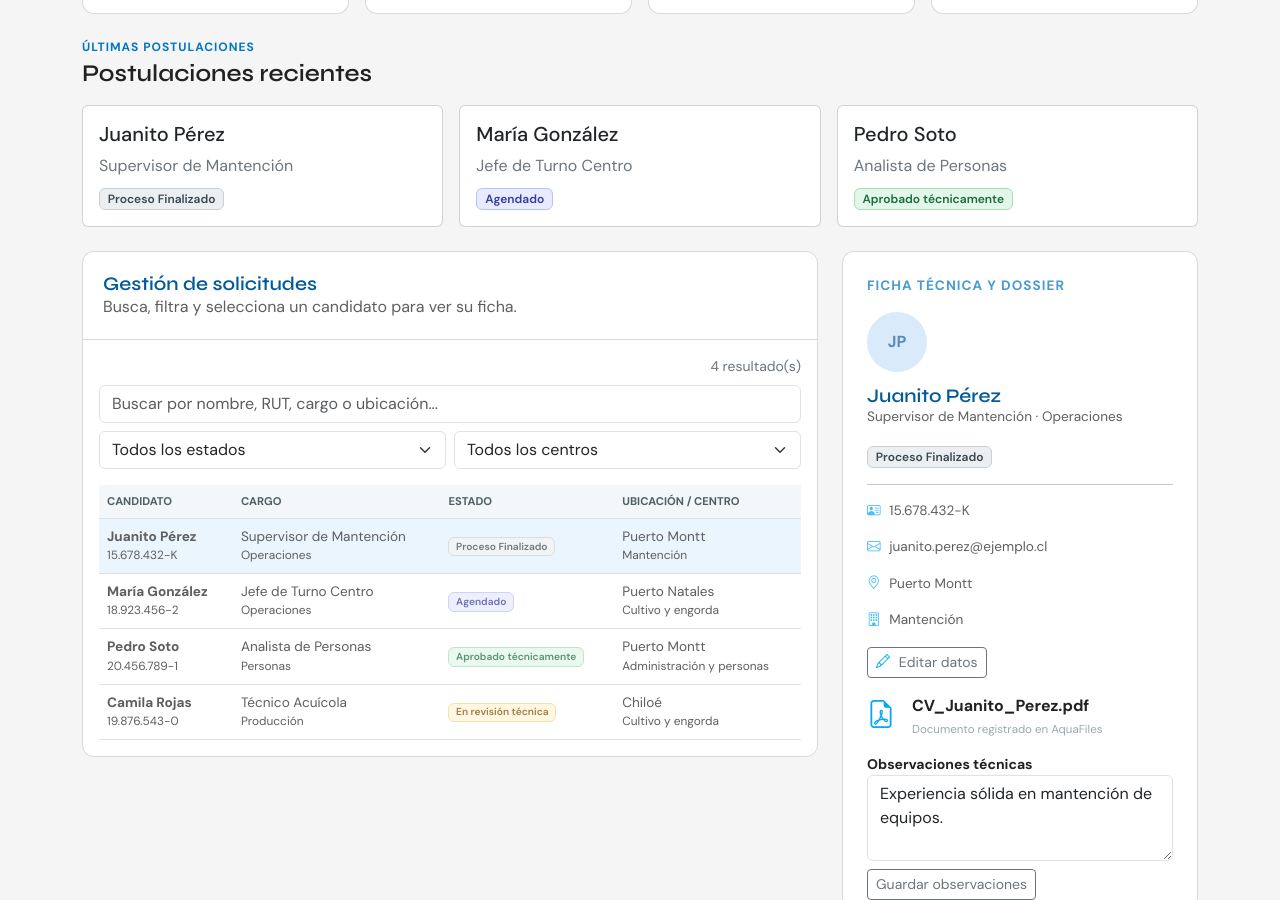
Scenario: Flujo del proceso › el supervisor filtra por centro de costos
The image size is (1280, 900).
(page scrolled)
Select "Mantención" in the 2nd dropdown named "filtrar por centro de costos" at (628, 450), box [454, 431, 801, 469]
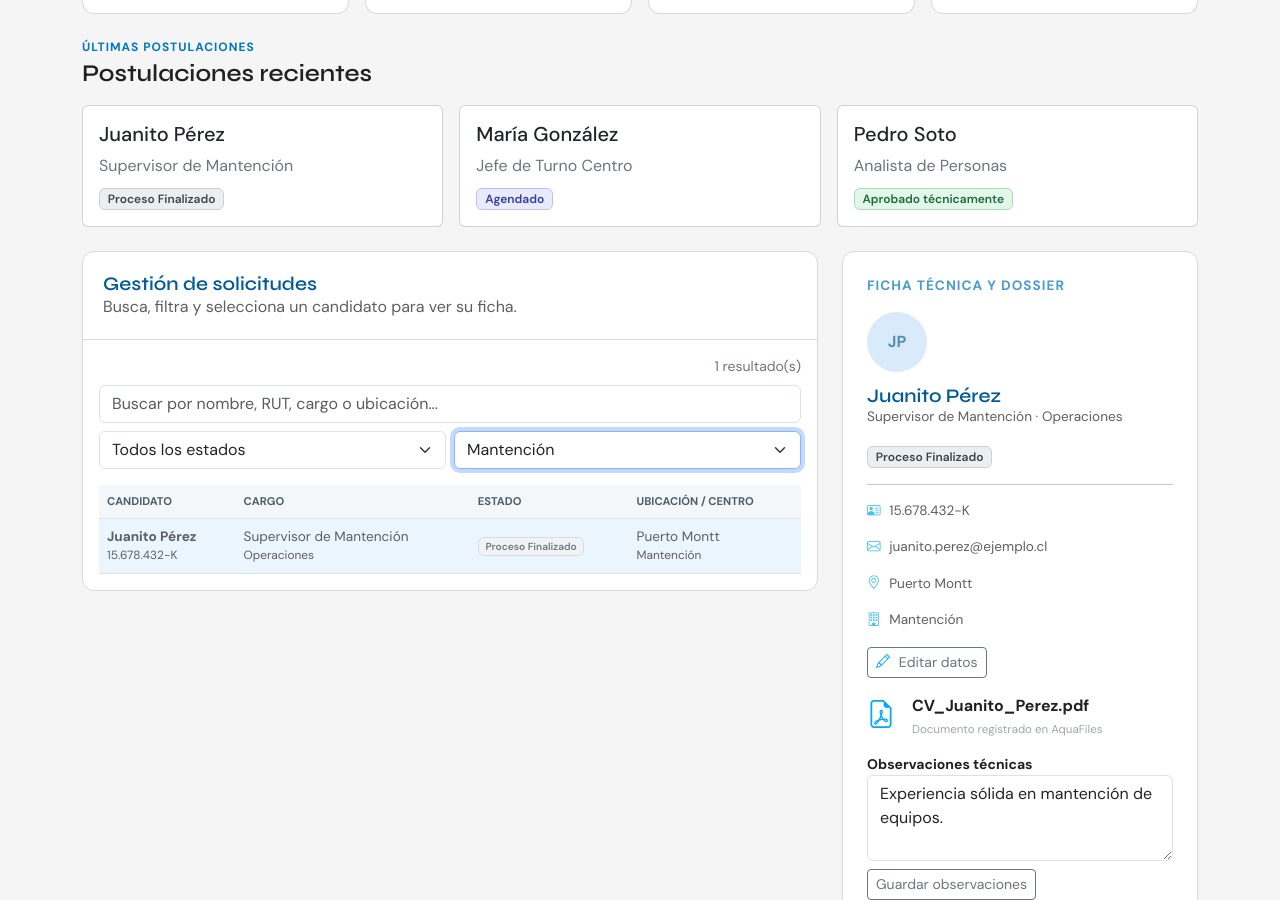
Expected: the row "Juanito Pérez" is shown, [99, 518, 801, 574]
Expected: the text "1 resultado(s)" is shown, [714, 356, 801, 377]
